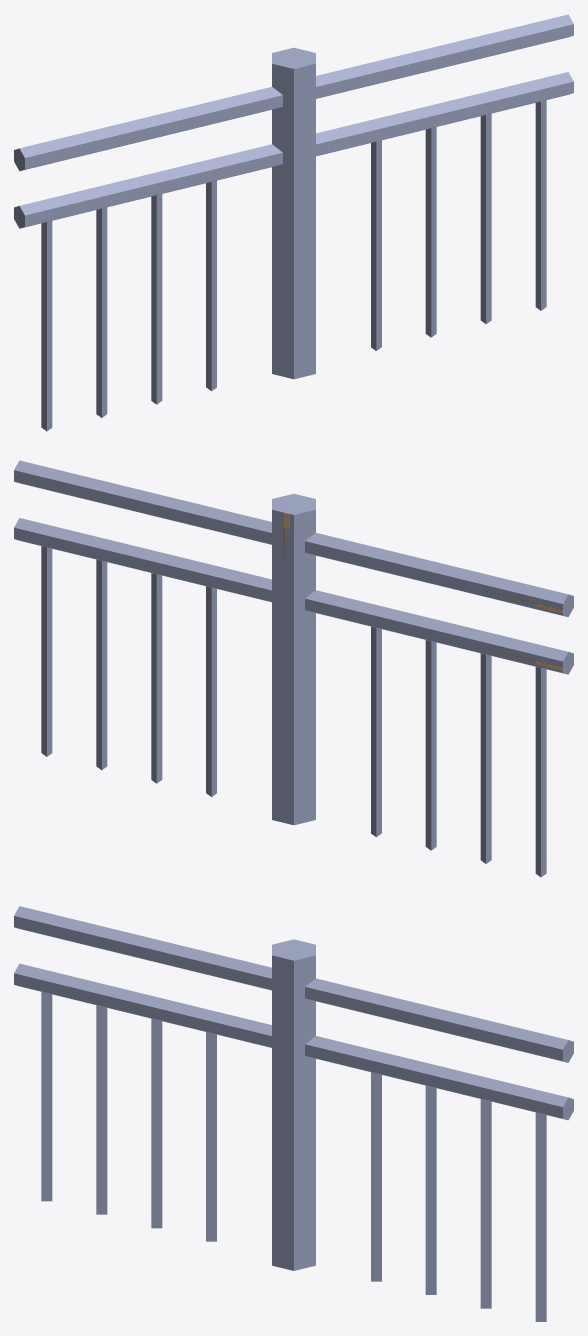
The model's file is river_fence.FBX.
The picture shows the model from 3 angles, top to bottom: view 1: azimuth 30°, elevation 25°; view 2: azimuth 150°, elevation 25°; view 3: azimuth 330°, elevation 25°; orthographic projection.
Visible parts, largest first — view 1: river_fence; view 2: river_fence; view 3: river_fence.
Boxes of the visible parts, left/top/right/bottom form: river_fence: left=14, top=14, right=573, bottom=431; river_fence: left=14, top=460, right=573, bottom=877; river_fence: left=14, top=906, right=573, bottom=1321.
Size of the model in its own units: 200 by 108 by 13.86.
